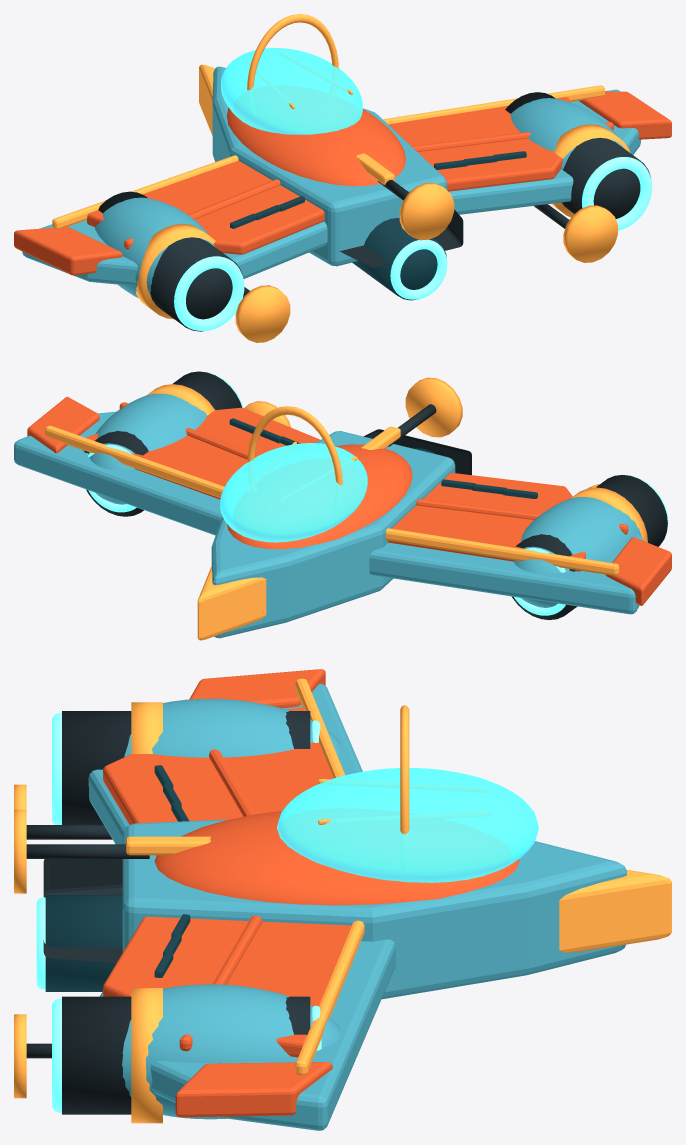
The model's file is orbitgo-swept-wing.glb.
3 renders of one model, top to bottom at view 1: azimuth 30°, elevation 25°; view 2: azimuth 150°, elevation 25°; view 3: azimuth 270°, elevation 25°, orthographic. The views are drawn at different scales.
Parts seen in each view (by area): view 1: CockpitCanopy, Fuselage, WingPanel_-1, WingPanel_1, UpperArmor, EngineCore_-1, EngineCore_1, EngineShroud_-1, MainWing_-1, MainWing_1, WingTip_-1, CenterEngine (+18 smaller); view 2: Fuselage, CockpitCanopy, MainWing_-1, MainWing_1, WingPanel_-1, WingPanel_1, EngineShroud_-1, UpperArmor, EngineShroud_1, NoseArmor, EngineCore_-1, LeadingEdge_-1 (+16 smaller); view 3: Fuselage, CockpitCanopy, WingPanel_1, UpperArmor, WingPanel_-1, EngineShroud_1, MainWing_1, EngineCore_1, NoseArmor, EngineShroud_-1, WingTip_1, EngineCore_-1 (+19 smaller).
Boxes of the visible parts, left/top/right/bottom form: CockpitCanopy: left=221, top=48, right=362, bottom=134; Fuselage: left=212, top=66, right=447, bottom=266; WingPanel_-1: left=87, top=160, right=324, bottom=254; WingPanel_1: left=388, top=97, right=570, bottom=191; UpperArmor: left=227, top=107, right=405, bottom=186; EngineCore_-1: left=98, top=191, right=243, bottom=331; EngineCore_1: left=505, top=92, right=651, bottom=218; EngineShroud_-1: left=94, top=197, right=215, bottom=297; MainWing_-1: left=22, top=220, right=327, bottom=285; MainWing_1: left=449, top=89, right=640, bottom=214; WingTip_-1: left=14, top=226, right=122, bottom=275; CenterEngine: left=352, top=218, right=446, bottom=300; Fuselage: left=211, top=431, right=455, bottom=638; CockpitCanopy: left=220, top=443, right=367, bottom=542; MainWing_-1: left=369, top=534, right=644, bottom=614; MainWing_1: left=14, top=411, right=222, bottom=535; WingPanel_-1: left=388, top=472, right=585, bottom=571; WingPanel_1: left=82, top=407, right=320, bottom=499; EngineShroud_-1: left=513, top=497, right=641, bottom=607; UpperArmor: left=227, top=444, right=412, bottom=549; EngineShroud_1: left=88, top=393, right=207, bottom=504; NoseArmor: left=197, top=565, right=266, bottom=640; EngineCore_-1: left=511, top=475, right=667, bottom=619; LeadingEdge_-1: left=385, top=528, right=619, bottom=575; Fuselage: left=122, top=819, right=626, bottom=999; CockpitCanopy: left=277, top=768, right=538, bottom=882; WingPanel_1: left=103, top=916, right=351, bottom=1057; UpperArmor: left=154, top=811, right=519, bottom=905; WingPanel_-1: left=103, top=707, right=333, bottom=824; EngineShroud_1: left=122, top=984, right=341, bottom=1119; MainWing_1: left=100, top=939, right=395, bottom=1130; EngineCore_1: left=62, top=996, right=310, bottom=1114; NoseArmor: left=559, top=869, right=671, bottom=952; EngineShroud_-1: left=124, top=698, right=341, bottom=757; WingTip_1: left=175, top=1062, right=332, bottom=1117; EngineCore_-1: left=62, top=711, right=310, bottom=824.
Size of the model in its own units: 9.52 by 2.92 by 6.23.
